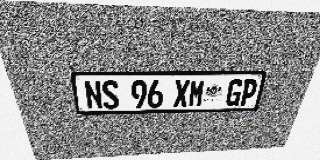6: (148, 80, 164, 108)
9: (131, 80, 147, 109)
G: (225, 79, 244, 106)
M: (188, 79, 206, 107)
N: (83, 80, 104, 110)
P: (239, 79, 259, 106)
S: (101, 80, 120, 109)
X: (173, 80, 190, 107)
